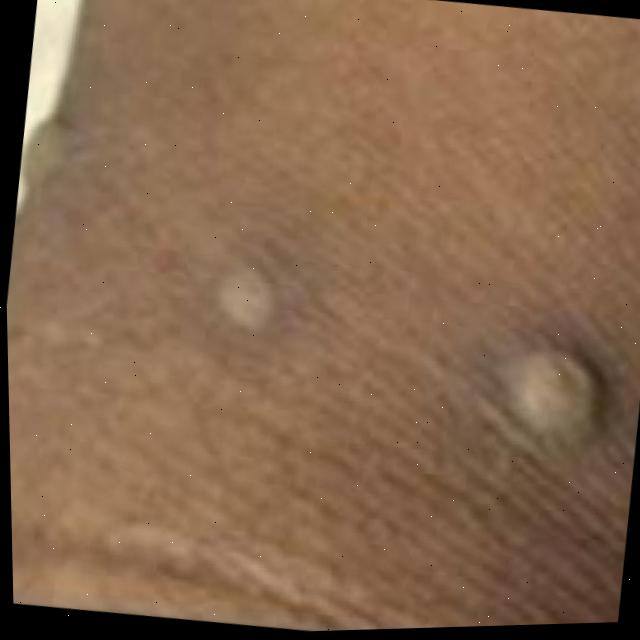Eczema: (490, 321, 614, 466), (19, 111, 90, 177), (213, 268, 255, 331)
